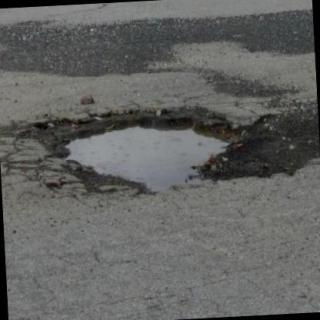pothole: (0, 108, 320, 193)
